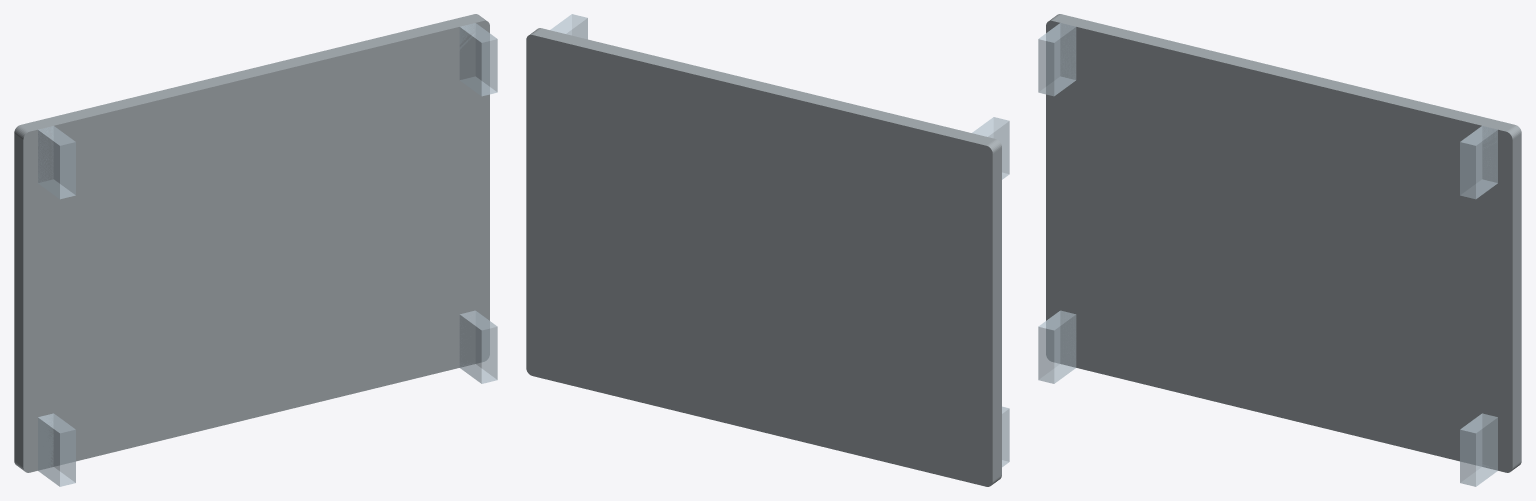
Rendered from staging_insert.obj.
The picture shows the model from 3 angles, left to right: view 1: azimuth 30°, elevation 25°; view 2: azimuth 150°, elevation 25°; view 3: azimuth 330°, elevation 25°; orthographic projection.
Visible parts, largest first — view 1: staging_insert_0, staging_insert_3, staging_insert_4, staging_insert_1, staging_insert_2; view 2: staging_insert_0, staging_insert_2, staging_insert_4; view 3: staging_insert_0, staging_insert_1, staging_insert_2, staging_insert_3, staging_insert_4.
Part boxes in pixels (x1,y1,x2,y2): staging_insert_0: [14, 14, 489, 472]; staging_insert_3: [459, 310, 497, 383]; staging_insert_4: [459, 23, 497, 96]; staging_insert_1: [38, 413, 75, 486]; staging_insert_2: [38, 126, 75, 199]; staging_insert_0: [526, 28, 1001, 486]; staging_insert_2: [972, 117, 1009, 179]; staging_insert_4: [550, 14, 587, 39]; staging_insert_0: [1046, 14, 1521, 472]; staging_insert_1: [1038, 310, 1076, 383]; staging_insert_2: [1038, 23, 1076, 96]; staging_insert_3: [1460, 413, 1497, 486]; staging_insert_4: [1460, 126, 1497, 199].
Bounding box in the file's own units: 0.146 × 0.102 × 0.017.
